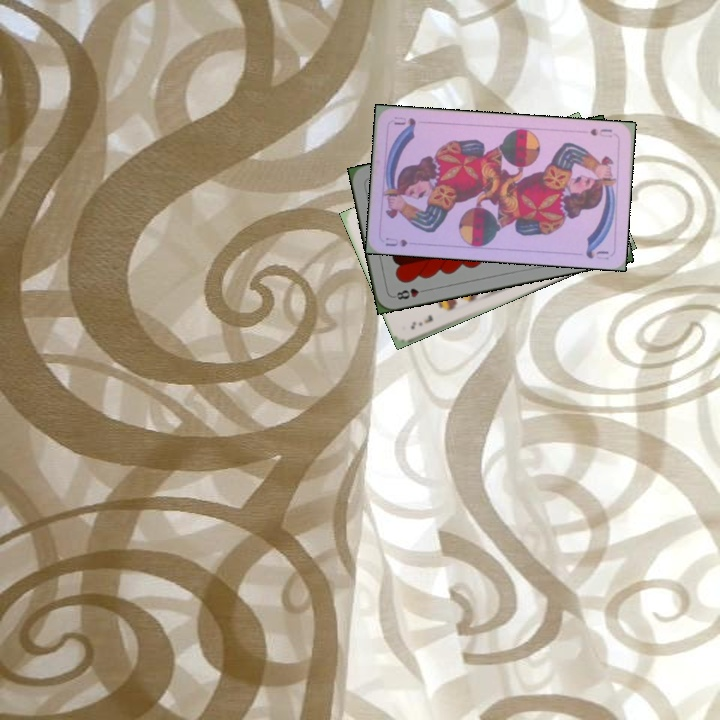E7: (406, 310, 436, 332)
H8: (390, 284, 430, 302)
SU: (586, 124, 615, 140), (381, 234, 410, 249)
